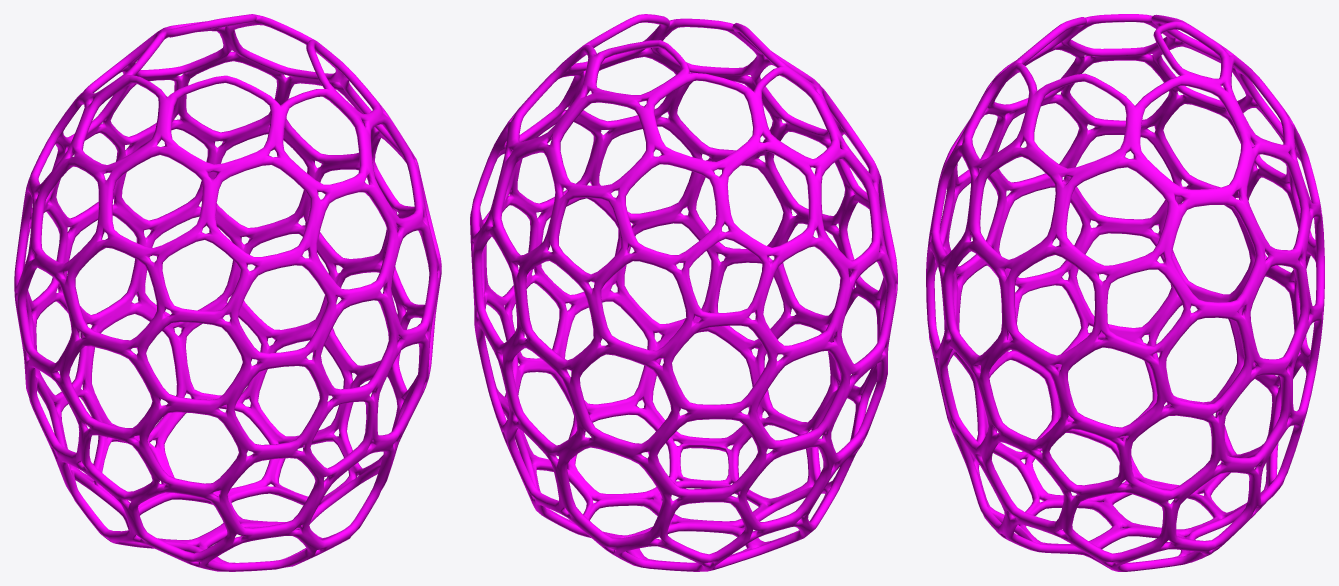
File: helloParametrics.obj
The picture shows the model from 3 angles, left to right: view 1: azimuth 30°, elevation 25°; view 2: azimuth 150°, elevation 25°; view 3: azimuth 270°, elevation 25°; orthographic projection.
Size of the model in its own units: 0.3413 by 0.4307 by 0.3106.
